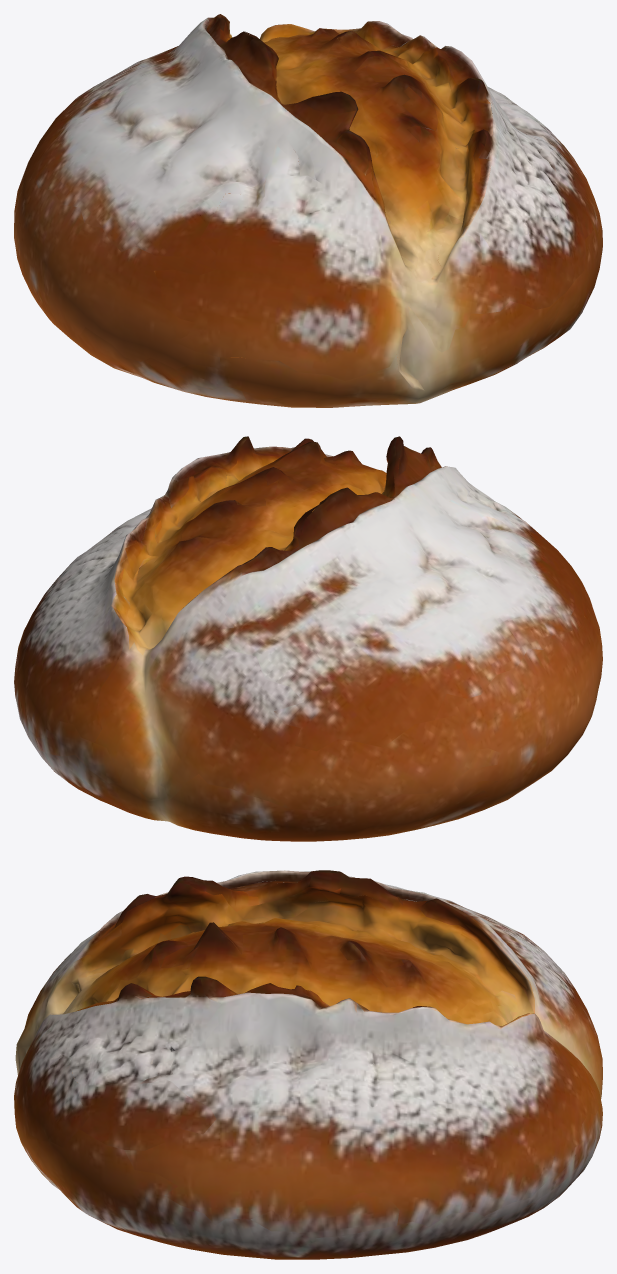
Rendered from pan.glb.
3 views of the same model, one above another, from view 1: azimuth 30°, elevation 25°; view 2: azimuth 150°, elevation 25°; view 3: azimuth 270°, elevation 25° (orthographic).
Visible parts, largest first — view 1: geometry_0; view 2: geometry_0; view 3: geometry_0.
Part boxes in pixels (x1,y1,x2,y2): geometry_0: (14, 14, 602, 407); geometry_0: (14, 436, 602, 841); geometry_0: (14, 870, 602, 1259).
Size of the model in its own units: 0.32 by 0.16 by 0.3199.
Materials: 1 (1 with a texture image).
